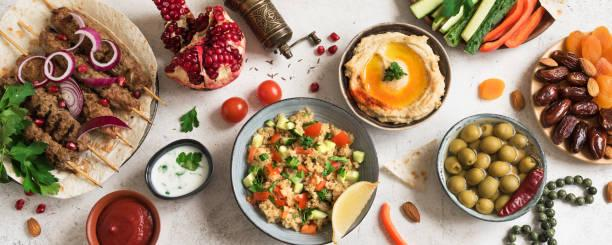Braised Crucian Carp: (3, 0, 158, 199), (230, 96, 375, 244), (339, 22, 451, 132), (436, 113, 547, 222)
